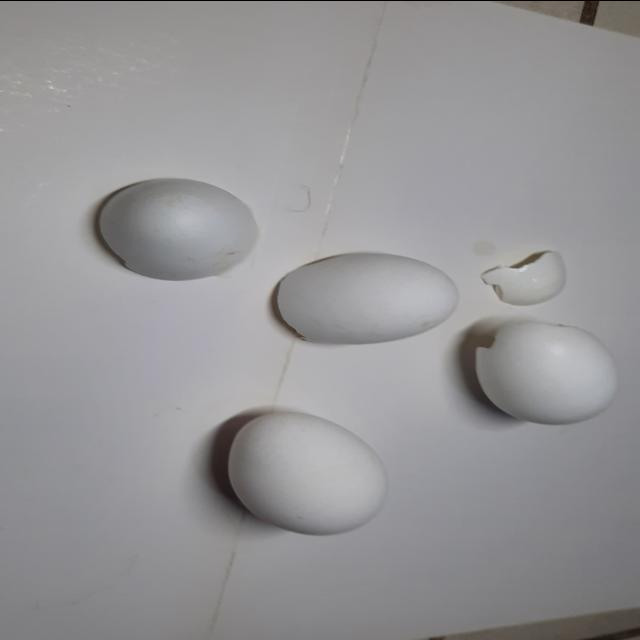egg shell: (218, 405, 398, 539), (270, 248, 468, 350), (92, 172, 266, 283), (474, 320, 623, 427), (482, 248, 568, 308)
